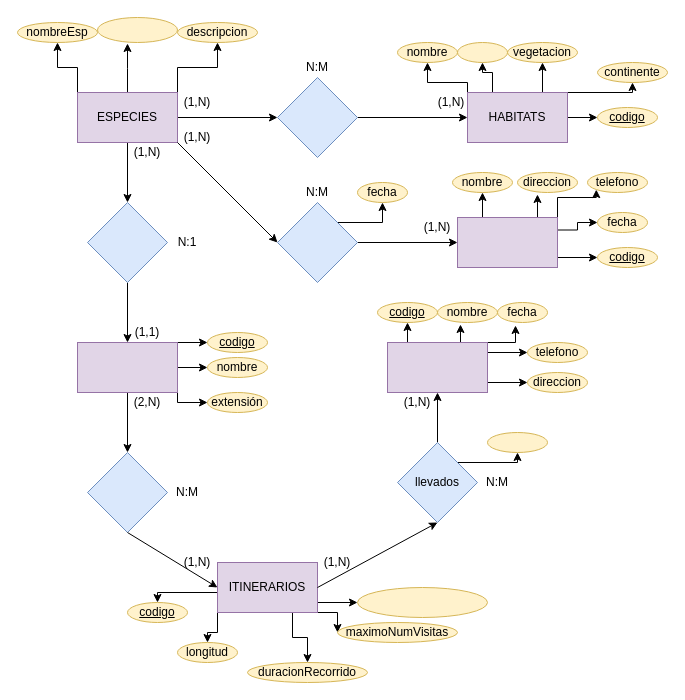
The diagram is 685 pixels wide and 700 high, and some of its shapes have lost their labels. Each missing label, with the centre of its shape:
clima: the point at 482,52
CUIDADORES: the point at 507,242
discurren: the point at 127,492
encargadas: the point at 317,242
estan: the point at 127,242
GUIAS: the point at 437,367
hora: the point at 517,442
nombreCien: the point at 137,29
numeroDistintasEsp: the point at 422,602
viven: the point at 317,117
ZONAS: the point at 127,367
